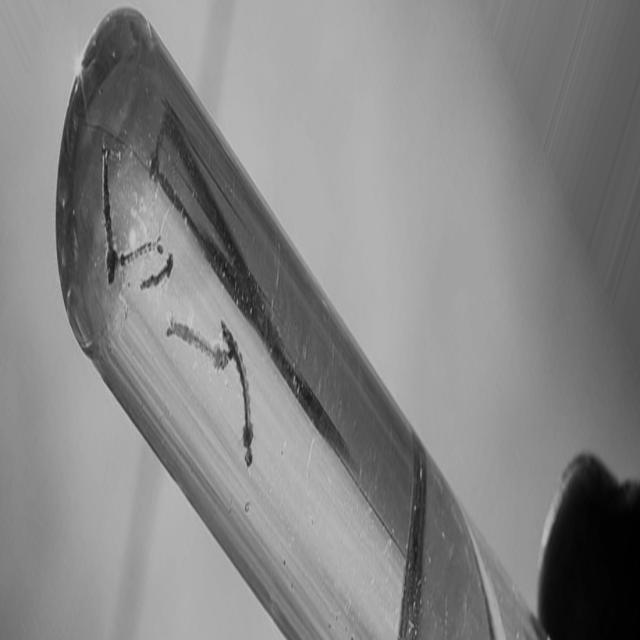larvas: (227, 322, 261, 467), (167, 316, 229, 373), (100, 142, 118, 282), (137, 252, 174, 293), (119, 234, 162, 268)
